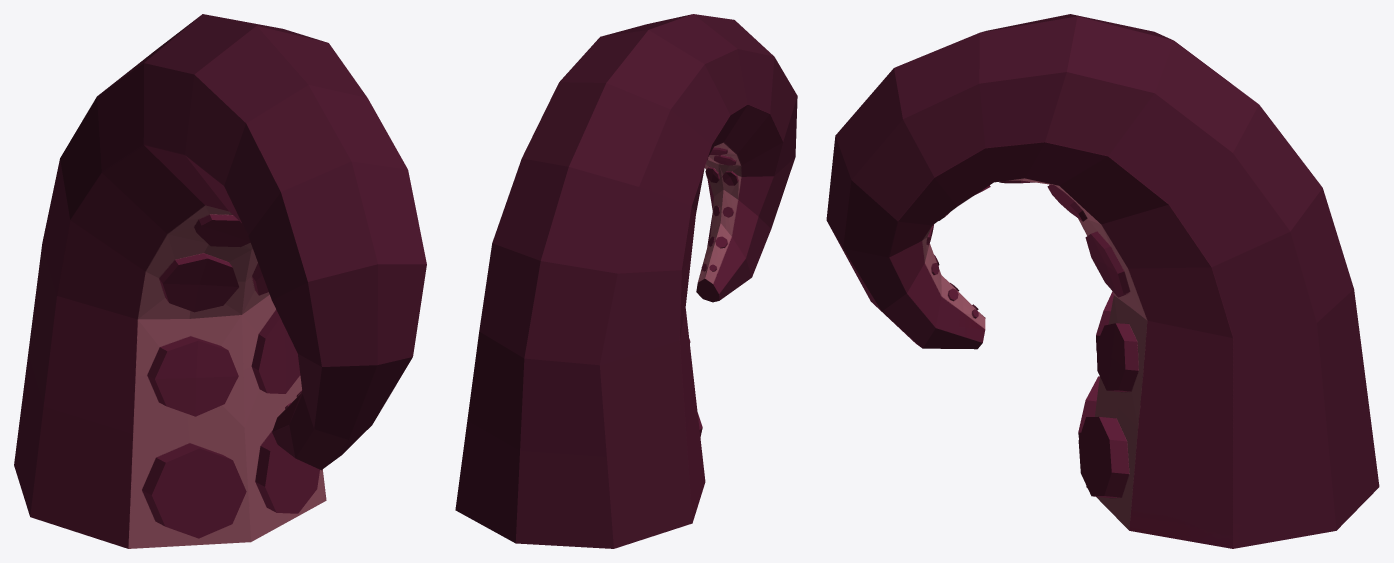
File: Tentaculo.fbx
The picture shows the model from 3 angles, left to right: view 1: azimuth 30°, elevation 25°; view 2: azimuth 150°, elevation 25°; view 3: azimuth 270°, elevation 25°; orthographic projection. The views are drawn at different scales.
Parts seen in each view (by area): view 1: IO_Tentacle; view 2: IO_Tentacle; view 3: IO_Tentacle.
Part boxes in pixels (x1,y1,x2,y2): IO_Tentacle: (14,14,426,548); IO_Tentacle: (455,14,797,548); IO_Tentacle: (826,14,1379,548).
Bounding box in the file's own units: 2.66 × 4.72 × 5.03.
